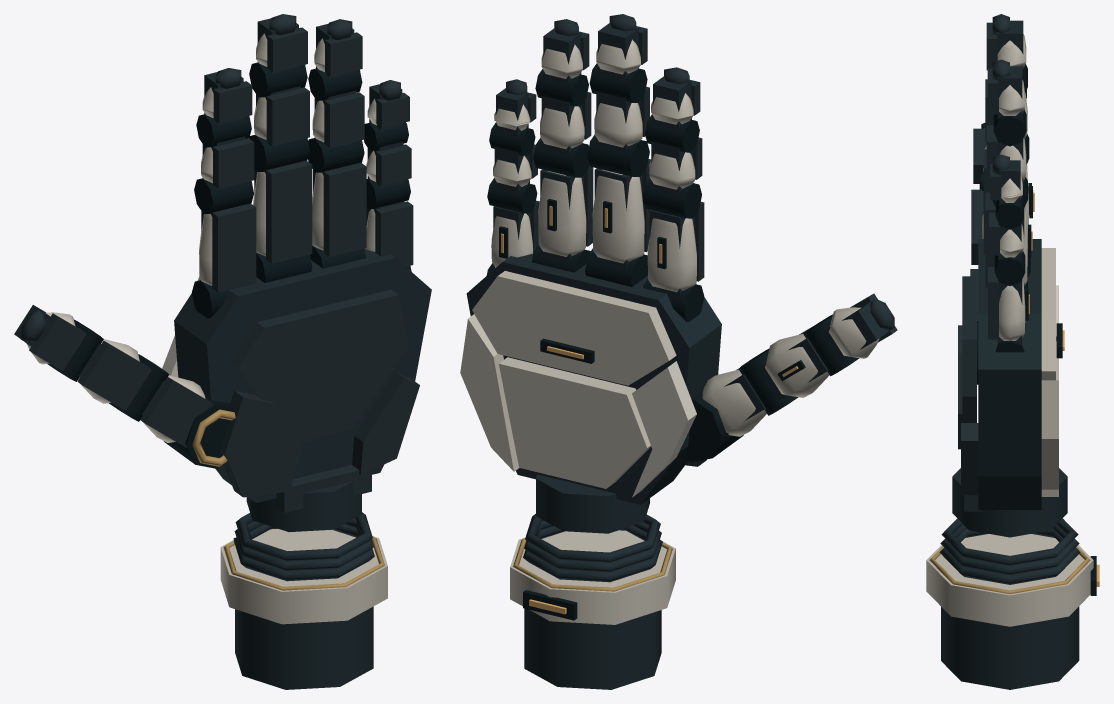
Rendered from aurel01_d0_lod2.glb.
3 views of the same model, side by side, from view 1: azimuth 30°, elevation 25°; view 2: azimuth 150°, elevation 25°; view 3: azimuth 270°, elevation 25° (orthographic). The views are drawn at different scales.
Visible parts, largest first — view 1: AUREL_DISTANCE_GEOMETRY; view 2: AUREL_DISTANCE_GEOMETRY; view 3: AUREL_DISTANCE_GEOMETRY.
Part boxes in pixels (x1=…): AUREL_DISTANCE_GEOMETRY: x1=14, y1=14, x2=431, y2=689; AUREL_DISTANCE_GEOMETRY: x1=460, y1=14, x2=897, y2=689; AUREL_DISTANCE_GEOMETRY: x1=926, y1=14, x2=1099, y2=689.
Size of the model in its own units: 0.1567 by 0.2425 by 0.06.
